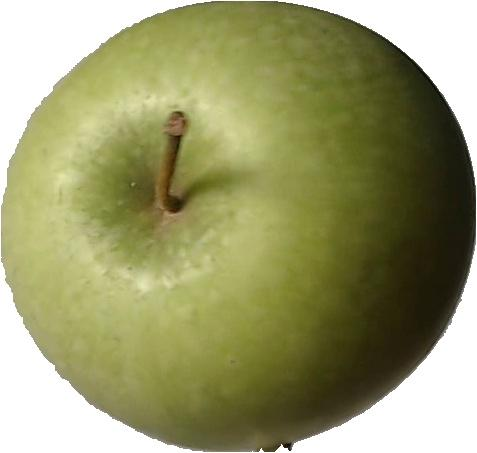Apple Unripe: (3, 0, 477, 453)
